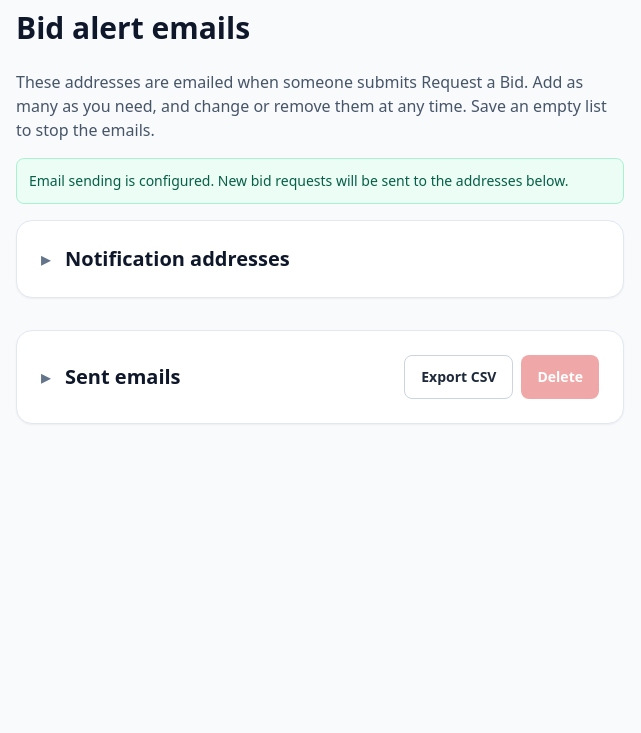
Test case: BidAlertSettings › lists each sent email under the address form
The width and height of the screenshot is (641, 733).
Click the button "▸ Notification addresses" at (165, 259), box [41,245,290,273]
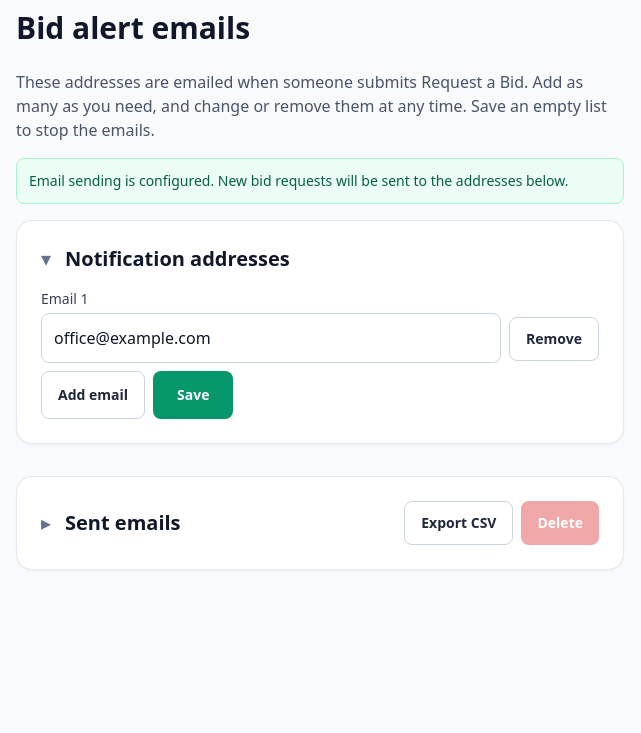
Click the button "▸ Sent emails" at (111, 523), box [41,509,180,537]
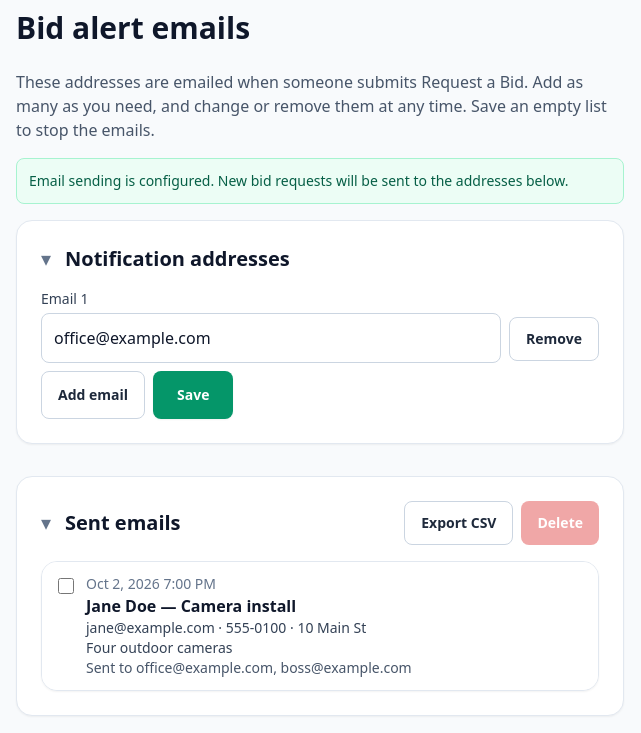
Expected: the list named "Sent emails" shows "Jane Doe", [86,595,156,617]
Expected: the list named "Sent emails" shows "Camera install", [181,595,296,617]
Expected: the list named "Sent emails" shows "jane@example.com", [86,618,215,637]
